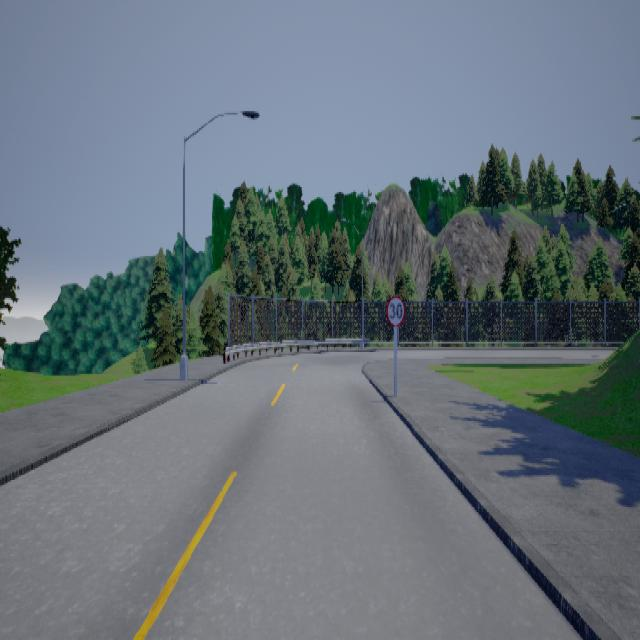traffic_sign: (385, 295, 404, 325)
